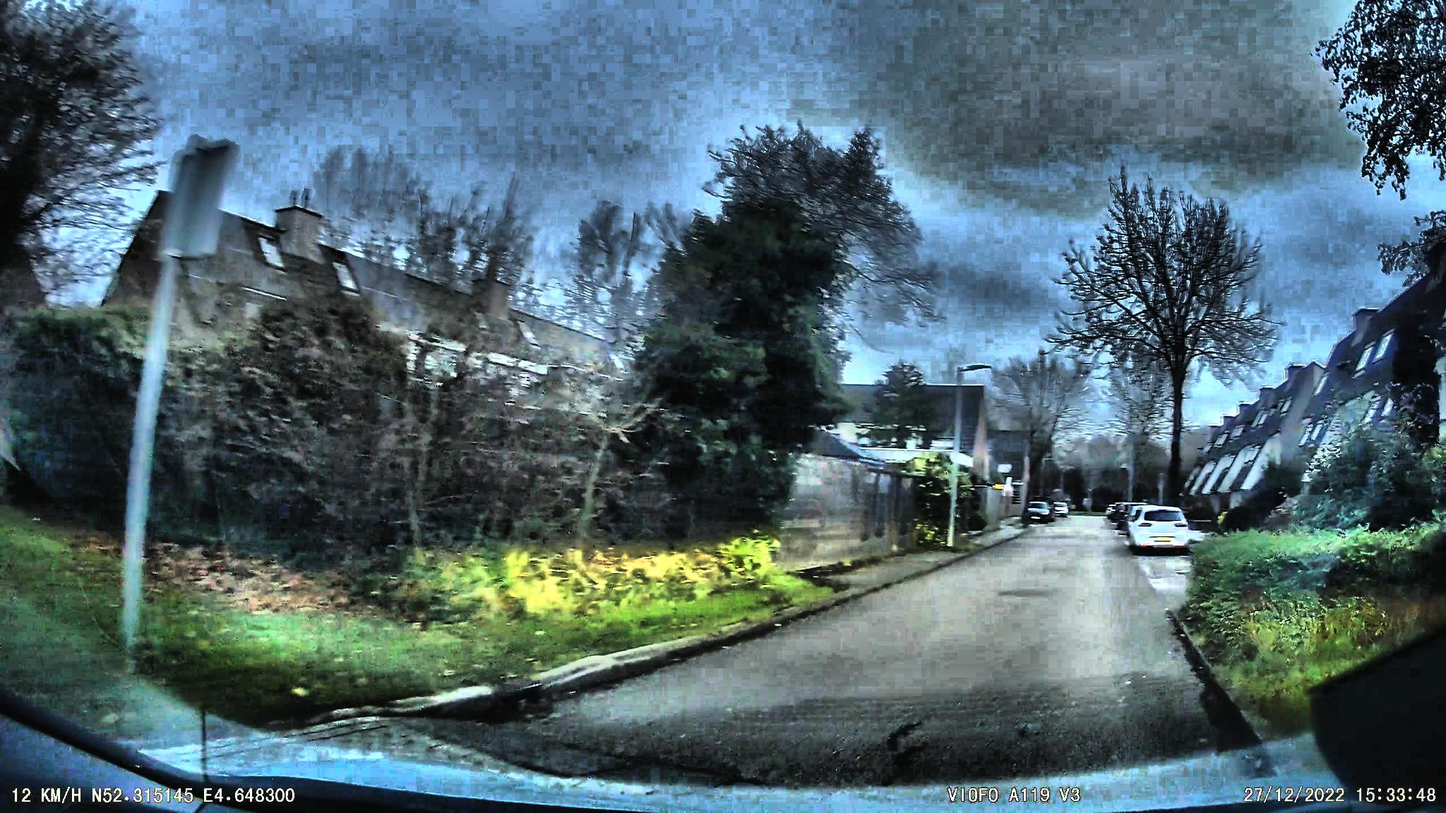Roads: (202, 519, 1348, 813)
